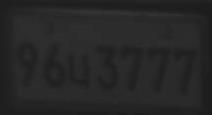3: (93, 44, 119, 89)
6: (43, 42, 65, 89)
7: (172, 47, 198, 97), (145, 45, 172, 93), (120, 45, 143, 92)
9: (17, 41, 38, 87)
나: (67, 49, 92, 91)
